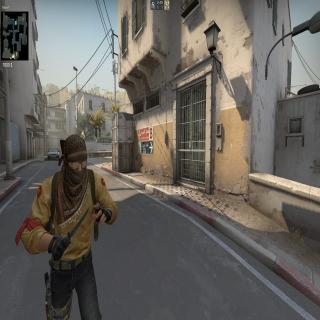T-Head: (59, 130, 89, 201)
